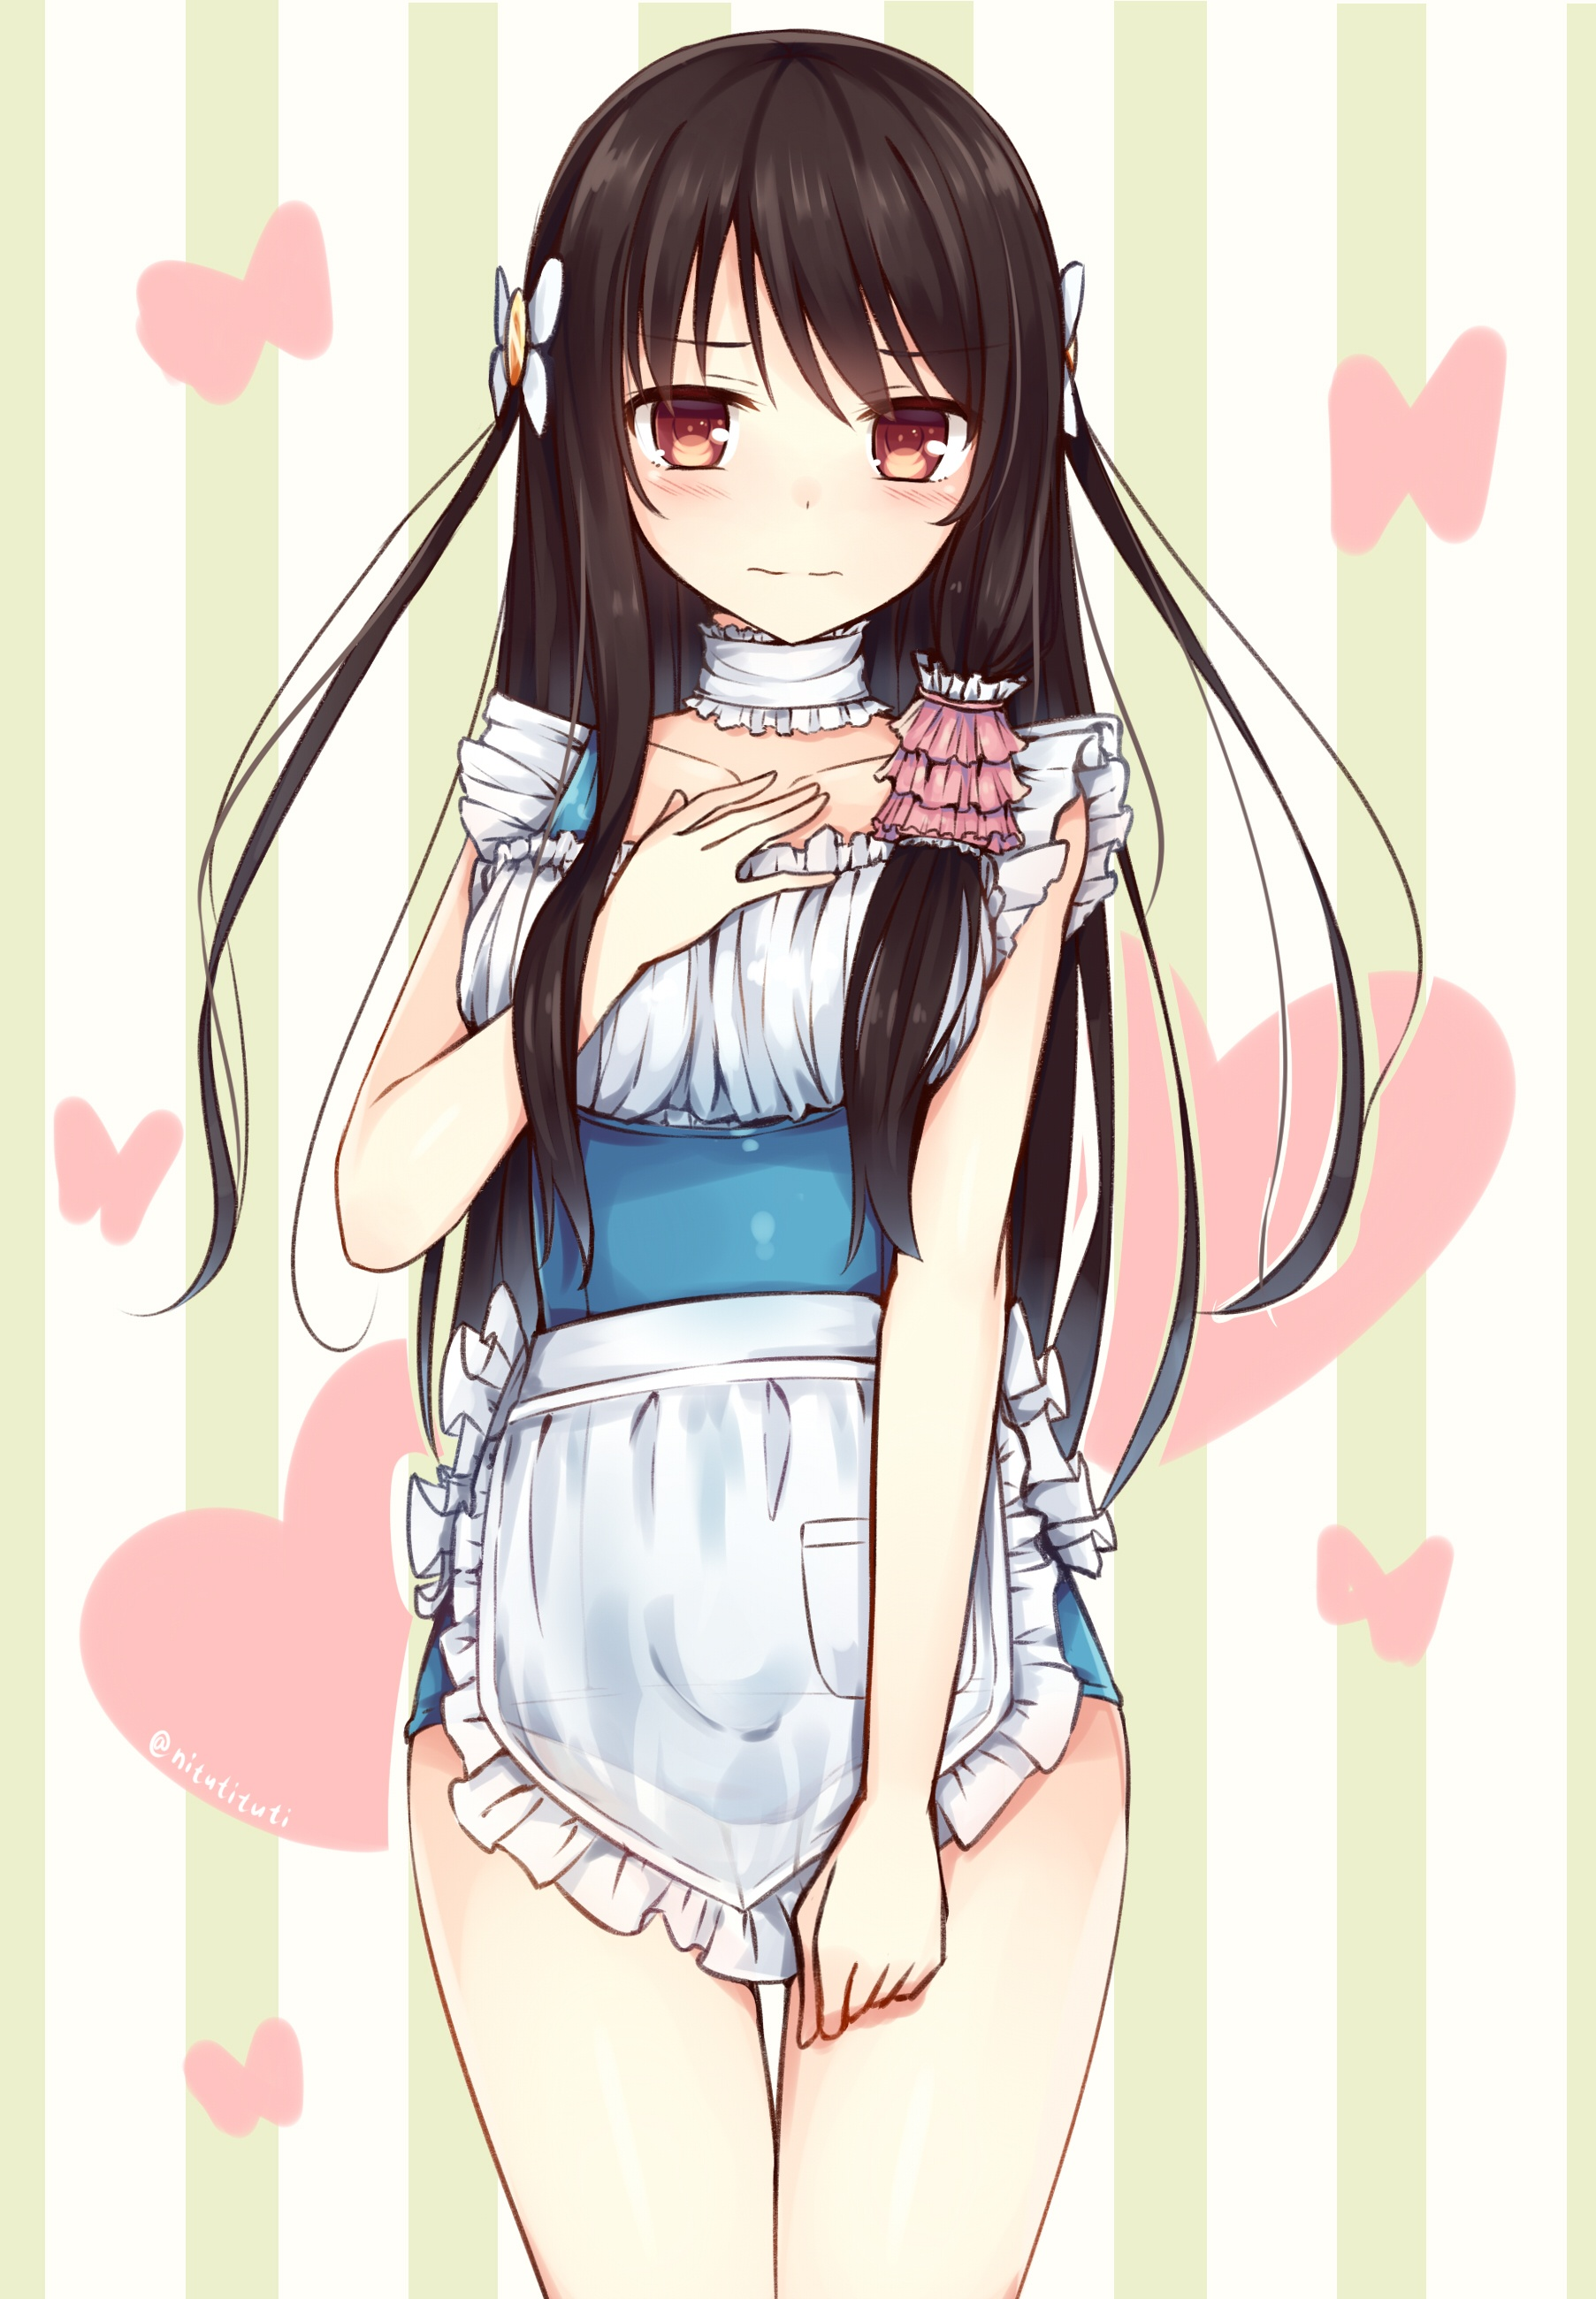纸片人正脸: (493, 14, 1081, 670)
